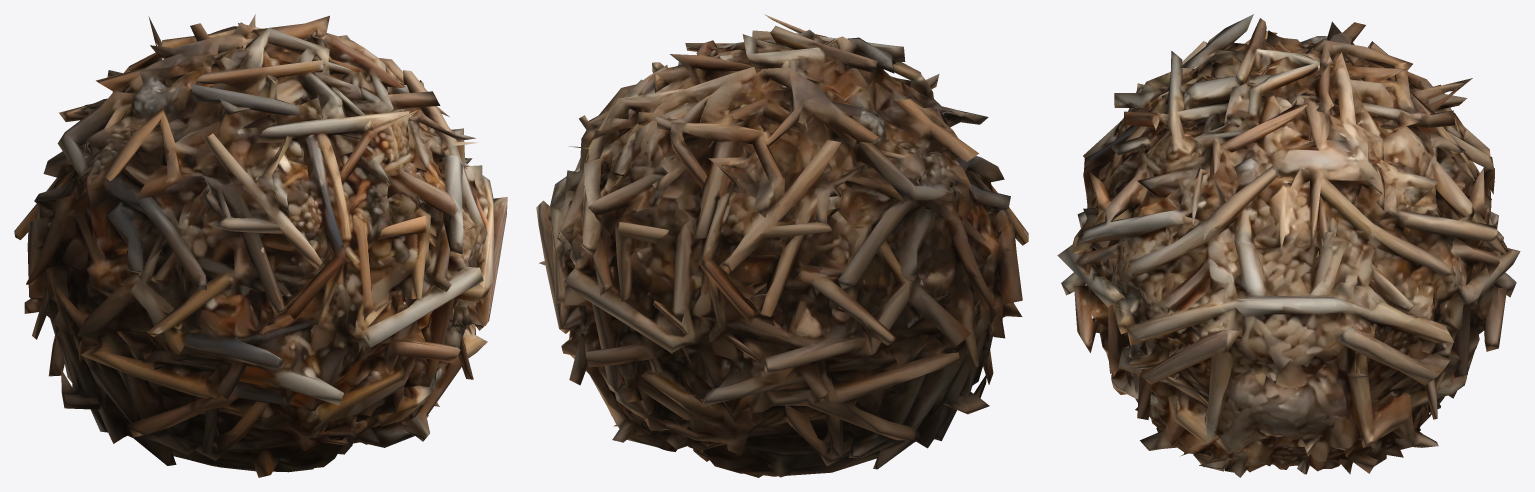
The model's file is mulch_pellet.glb.
The picture shows the model from 3 angles, left to right: view 1: azimuth 30°, elevation 25°; view 2: azimuth 150°, elevation 25°; view 3: azimuth 270°, elevation 25°; orthographic projection. The views are drawn at different scales.
Visible parts, largest first — view 1: mulch_pellet / mesh; view 2: mulch_pellet / mesh; view 3: mulch_pellet / mesh.
Boxes of the visible parts, x1,y1,x2,y2 form: mulch_pellet / mesh: [14, 14, 507, 477]; mulch_pellet / mesh: [536, 14, 1028, 477]; mulch_pellet / mesh: [1057, 14, 1520, 477].
Bounding box in the file's own units: 0.24 × 0.2123 × 0.2231.
Materials: 1 (1 with a texture image).
